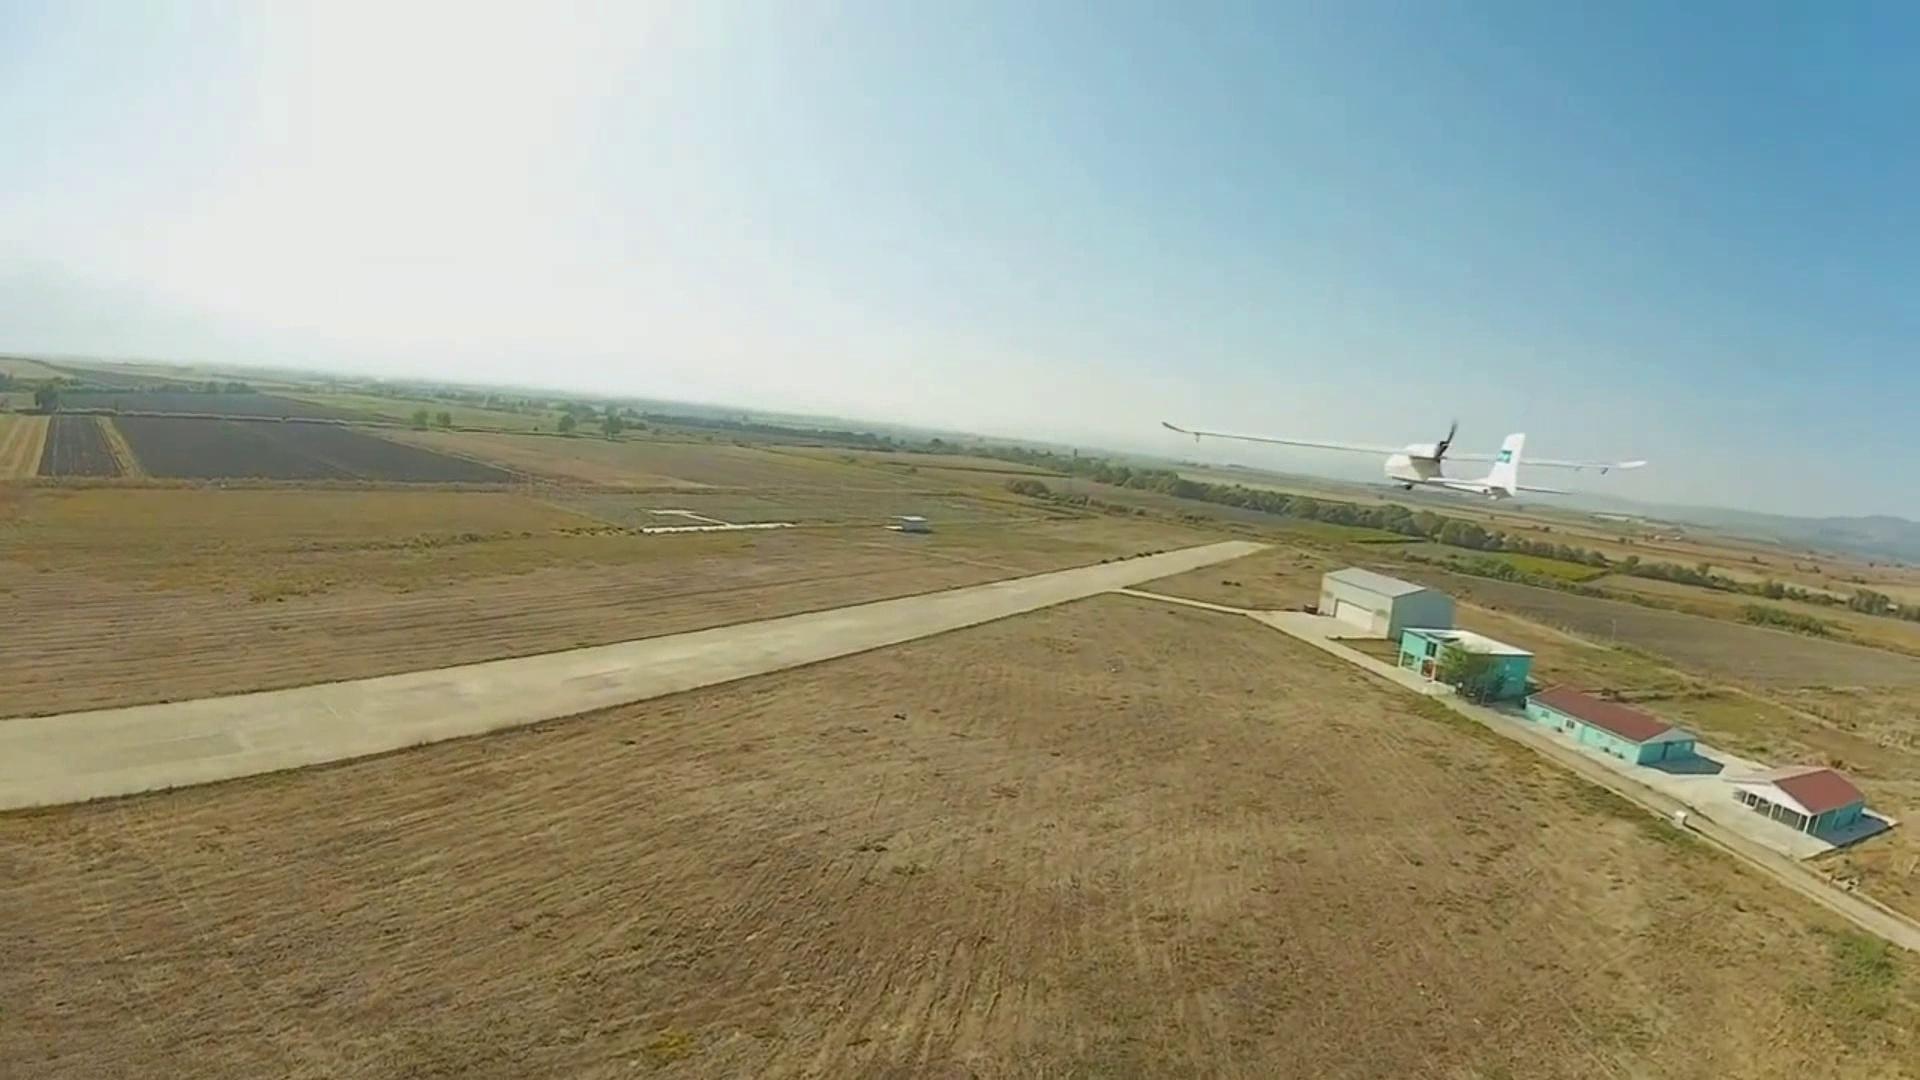airplane: (1160, 411, 1524, 500), (1383, 422, 1526, 498)
